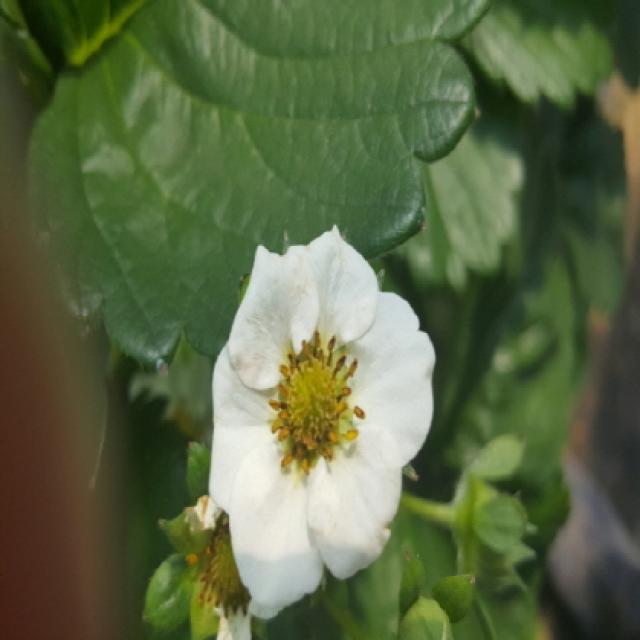Blossom Blight: (264, 324, 369, 480)
